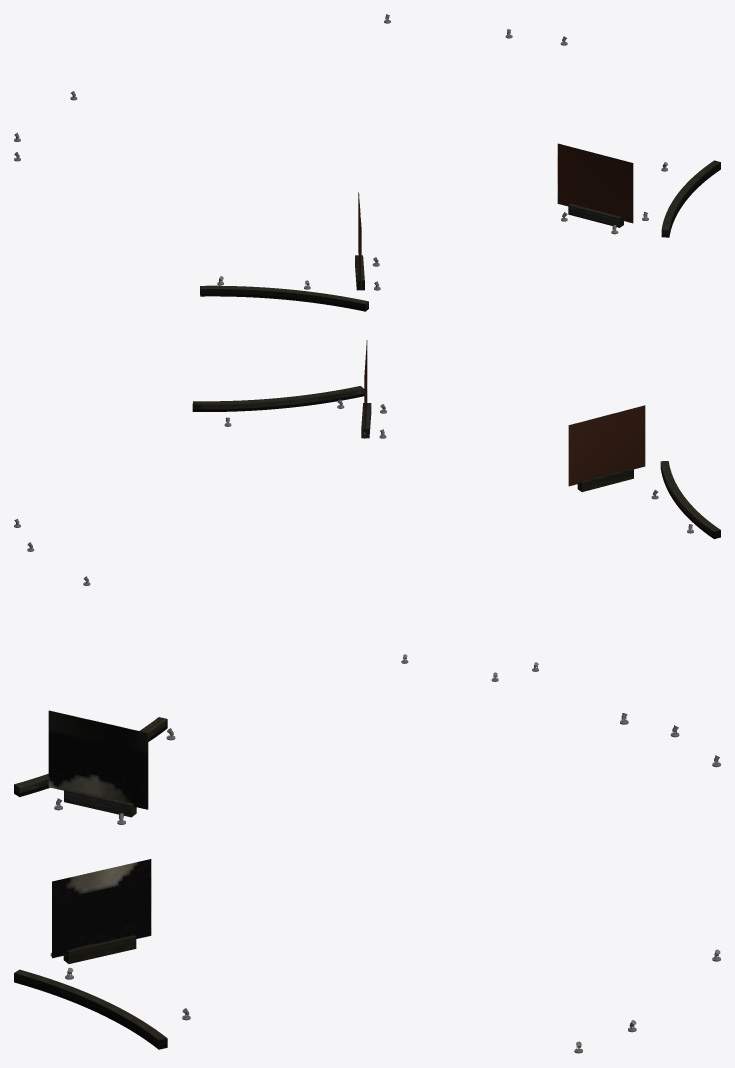
The model's file is Arena_Objects.glb.
The picture shows the model from 3 angles, top to bottom: view 1: azimuth 30°, elevation 25°; view 2: azimuth 150°, elevation 25°; view 3: azimuth 270°, elevation 25°; orthographic projection. The views are drawn at different scales.
Parts seen in each view (by area): view 1: 8--Banner-Stand-R, 8--Bush_Base-L, 8--Bush_Base-R, 8--Banner-Stand-L; view 2: 8--Banner-Stand-L, 8--Bush_Base-R, 8--Bush_Base-L, 8--Banner-Stand-R; view 3: 8--Banner-Stand-L, 8--Banner-Stand-R, 8--Bush_Base-R, 8--Bush_Base-L.
Boxes of the visible parts, <box> form: 8--Banner-Stand-R: <box>557,143,633,227</box>; 8--Bush_Base-L: <box>200,285,368,311</box>; 8--Bush_Base-R: <box>661,160,720,237</box>; 8--Banner-Stand-L: <box>355,192,364,290</box>; 8--Banner-Stand-L: <box>568,405,645,491</box>; 8--Bush_Base-R: <box>192,386,364,411</box>; 8--Bush_Base-L: <box>660,461,720,539</box>; 8--Banner-Stand-R: <box>361,340,371,438</box>; 8--Banner-Stand-L: <box>48,710,148,817</box>; 8--Banner-Stand-R: <box>52,859,151,963</box>; 8--Bush_Base-R: <box>14,969,167,1049</box>; 8--Bush_Base-L: <box>14,717,167,796</box>.
Bounding box in the file's own units: 27.93 × 3.49 × 25.13.
3 materials, 2 textured.
